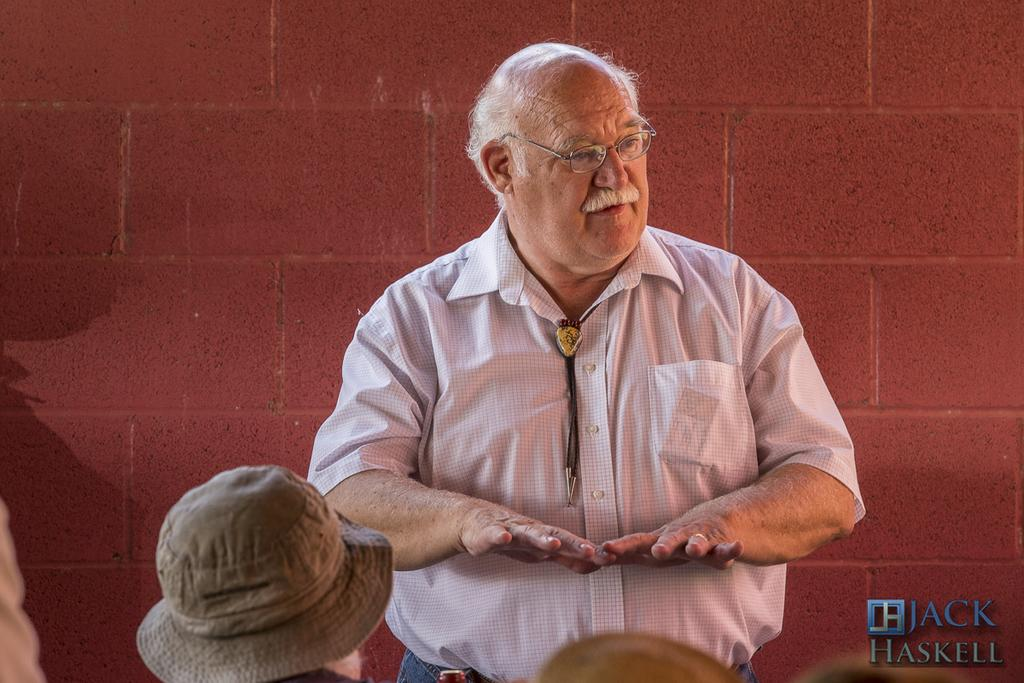Hat: (135, 459, 396, 681), (532, 630, 741, 682)
